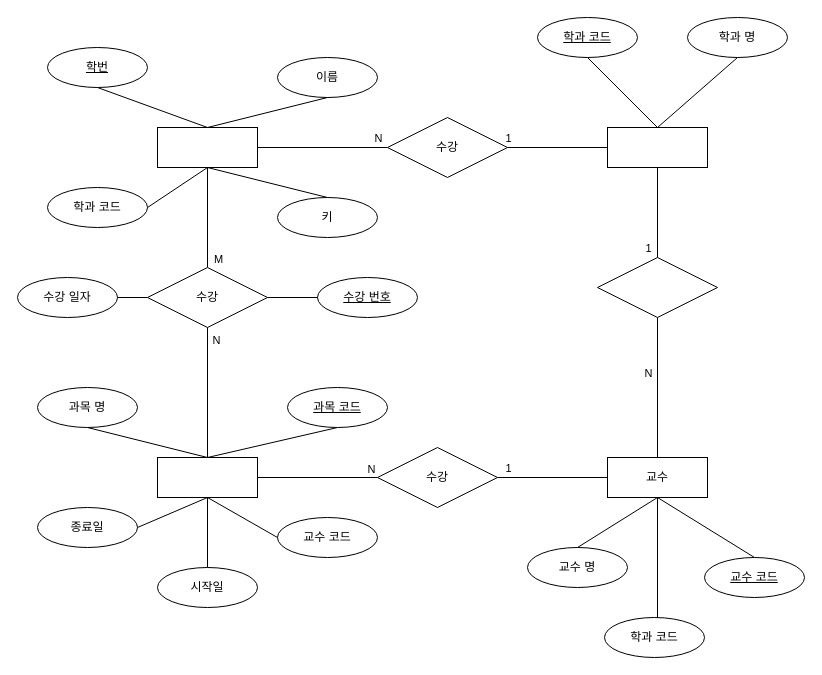
This 822x675 diagram has some shape labels left out. The shapes that lost their labels are listed below. From the top down, each one's centre as x and y in pixels, then its label:
At [207,147]: "학생".
At [657,147]: "학과".
At [657,287]: "강의".
At [207,477]: "과목".
